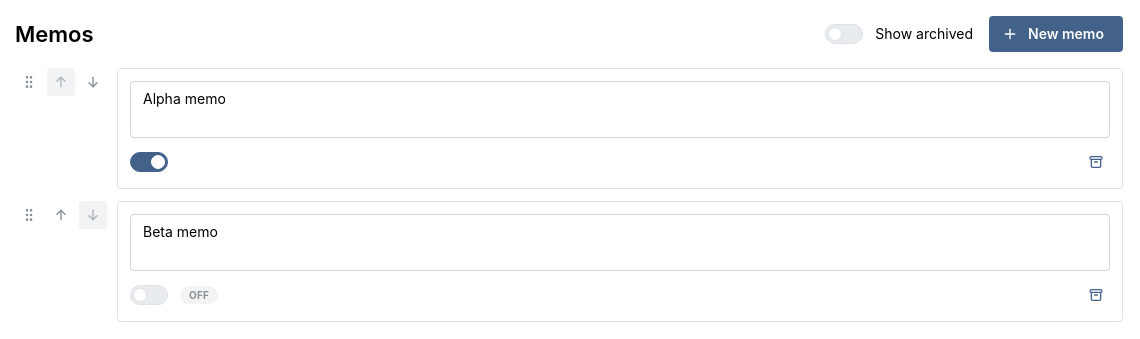
it: the on/off switch (DoD-7, DoD-8, DoD-9, DoD-10) › DoD-10 (US-127.AC-5): switching off the ONLY active memo succeeds — nothing refuses, nothing is restored behind the author's back
Expected: the text box named "Memo 1 body" is shown, [130,81,1110,138]
Click the switch named "Memo 1 active": (149, 162) [130,152,168,172]
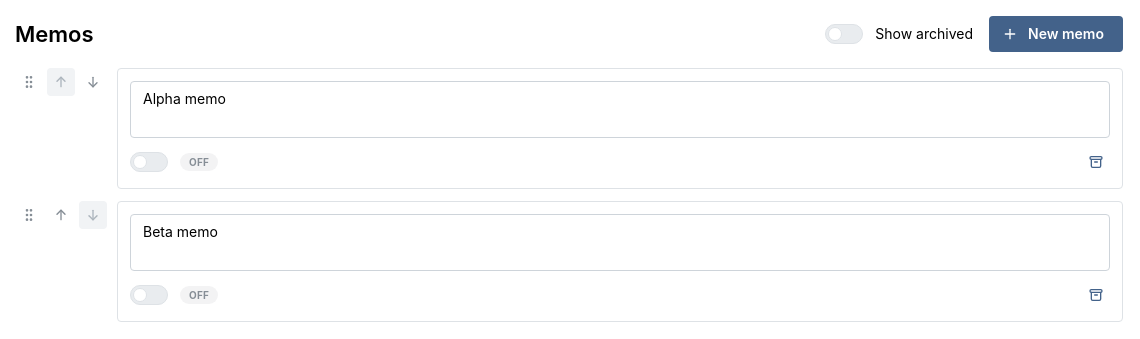
Expected: the switch named "Memo 2 active" is not checked, [130,285,168,305]
Expected: the switch named "Memo 1 active" is not checked, [130,152,168,172]
Expected: the element named "Memo 1 is off" is shown, [180,153,218,171]
